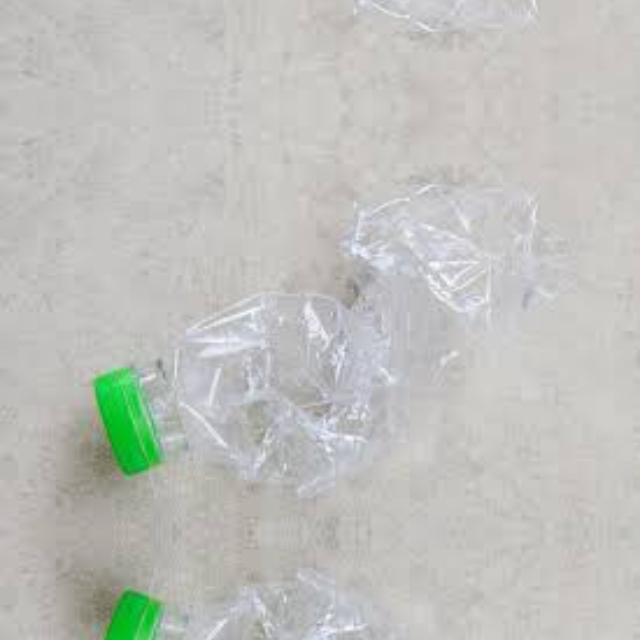Plastic: (66, 173, 596, 502), (65, 563, 596, 640), (65, 0, 596, 41)
